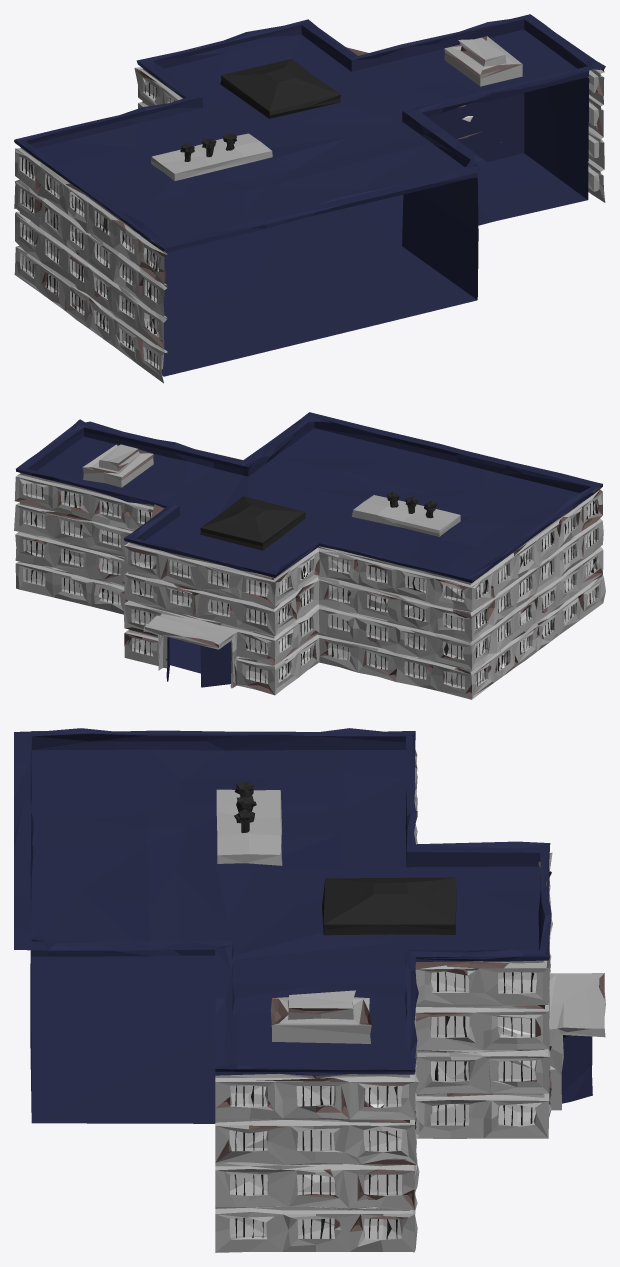
Rendered from old_building_large.fbx.
3 renders of one model, top to bottom at view 1: azimuth 30°, elevation 25°; view 2: azimuth 150°, elevation 25°; view 3: azimuth 270°, elevation 25°, orthographic. The views are drawn at different scales.
Visible parts, largest first — view 1: old_building_large; view 2: old_building_large; view 3: old_building_large.
Part boxes in pixels (x1,y1,x2,y2): old_building_large: (14,14,605,383); old_building_large: (14,412,605,699); old_building_large: (14,728,605,1252).
Bounding box in the file's own units: 4637 × 1279 × 3387.
